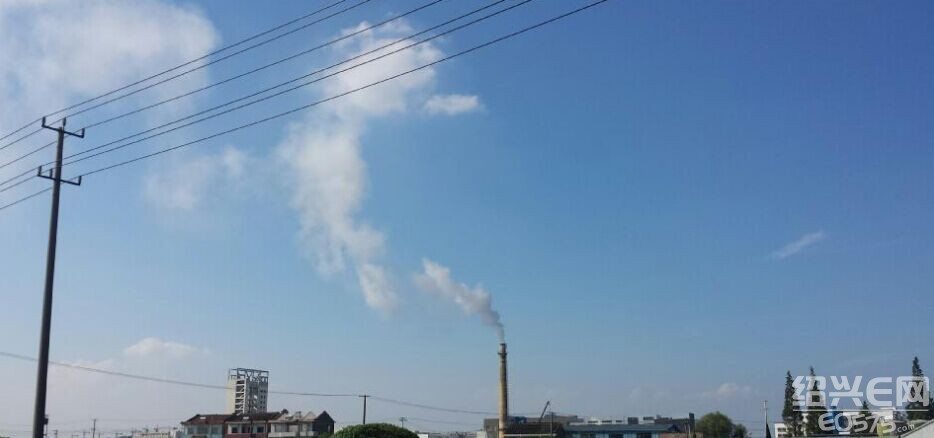dust: (370, 246, 524, 354)
